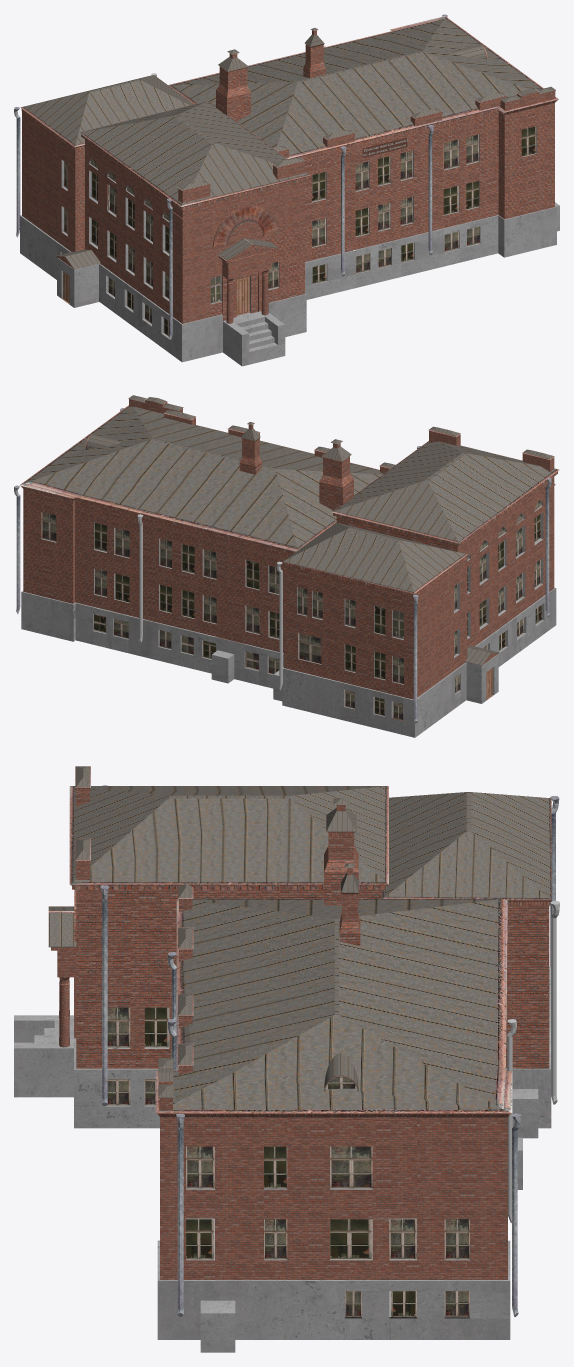
The model's file is red_school1_2.obj.
3 renders of one model, top to bottom at view 1: azimuth 30°, elevation 25°; view 2: azimuth 150°, elevation 25°; view 3: azimuth 270°, elevation 25°, orthographic. The views are drawn at different scales.
Visible parts, largest first — view 1: Walls_a_main_mat, Roof3_a_main_mat, Roof1_a_main_mat, Roof2_a_main_mat, GroundEnter_a_main_mat, Smook8_a_main_mat, Roof_krilzo_a_main_mat, Smook9_a_main_mat, Smook1_a_main_mat, Waterroof3_a_main_mat, Waterroof6_a_main_mat, Smook3_a_main_mat (+3 smaller); view 2: Walls_a_main_mat, Roof3_a_main_mat, Roof1_a_main_mat, Roof2_a_main_mat, Smook8_a_main_mat, GroundEnter_a_main_mat, Smook9_a_main_mat, Waterroof1_a_main_mat, Waterroof6_a_main_mat, Waterroof5_a_main_mat, Smook1_a_main_mat, Waterroof3.001_a_main_mat.001 (+3 smaller); view 3: Walls_a_main_mat, Roof3_a_main_mat, Roof1_a_main_mat, Roof2_a_main_mat, Smook8_a_main_mat, Waterroof4_a_main_mat, Smook9_a_main_mat, Waterroof2_a_main_mat, Waterroof5_a_main_mat, Waterroof7.001_a_main_mat.002, Roof_krilzo_a_main_mat, Cylinder_a_main_mat (+3 smaller).
Part boxes in pixels (x1,y1,x2,y2): Walls_a_main_mat: (20,103,559,366); Roof3_a_main_mat: (168,16,558,159); Roof1_a_main_mat: (79,101,309,209); Roof2_a_main_mat: (20,75,193,150); GroundEnter_a_main_mat: (56,249,100,307); Smook8_a_main_mat: (216,49,250,121); Roof_krilzo_a_main_mat: (217,238,278,263); Smook9_a_main_mat: (303,28,325,77); Smook1_a_main_mat: (500,86,555,110); Waterroof3_a_main_mat: (428,125,433,254); Waterroof6_a_main_mat: (14,107,20,237); Smook3_a_main_mat: (178,180,210,203); Walls_a_main_mat: (21,477,556,737); Roof3_a_main_mat: (19,405,383,553); Roof1_a_main_mat: (331,441,559,546); Roof2_a_main_mat: (282,522,468,596); Smook8_a_main_mat: (319,439,353,510); GroundEnter_a_main_mat: (465,646,499,703); Smook9_a_main_mat: (239,422,261,474); Waterroof1_a_main_mat: (545,477,551,617); Waterroof6_a_main_mat: (413,594,418,723); Waterroof5_a_main_mat: (14,485,20,613); Smook1_a_main_mat: (128,395,183,413); Waterroof3.001_a_main_mat.001: (137,514,143,642); Walls_a_main_mat: (14,889,551,1352); Roof3_a_main_mat: (155,899,512,1117); Roof1_a_main_mat: (69,786,388,889); Roof2_a_main_mat: (382,792,551,905); Smook8_a_main_mat: (324,798,358,905); Waterroof4_a_main_mat: (176,1114,184,1316); Smook9_a_main_mat: (339,863,360,945); Waterroof2_a_main_mat: (100,885,109,1105); Waterroof5_a_main_mat: (512,1113,520,1316); Waterroof7.001_a_main_mat.002: (551,901,559,1104); Roof_krilzo_a_main_mat: (48,906,76,950); Cylinder_a_main_mat: (324,1053,358,1091).
Bounding box in the file's own units: 37.02 × 17.27 × 25.2.
